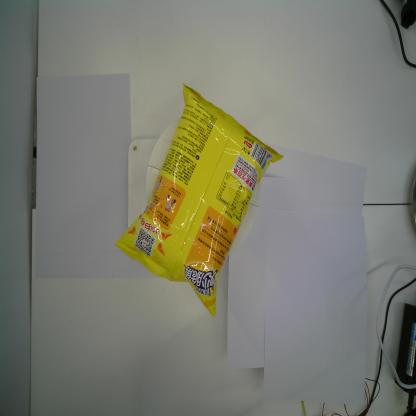Puffed Food: (113, 80, 287, 322)
